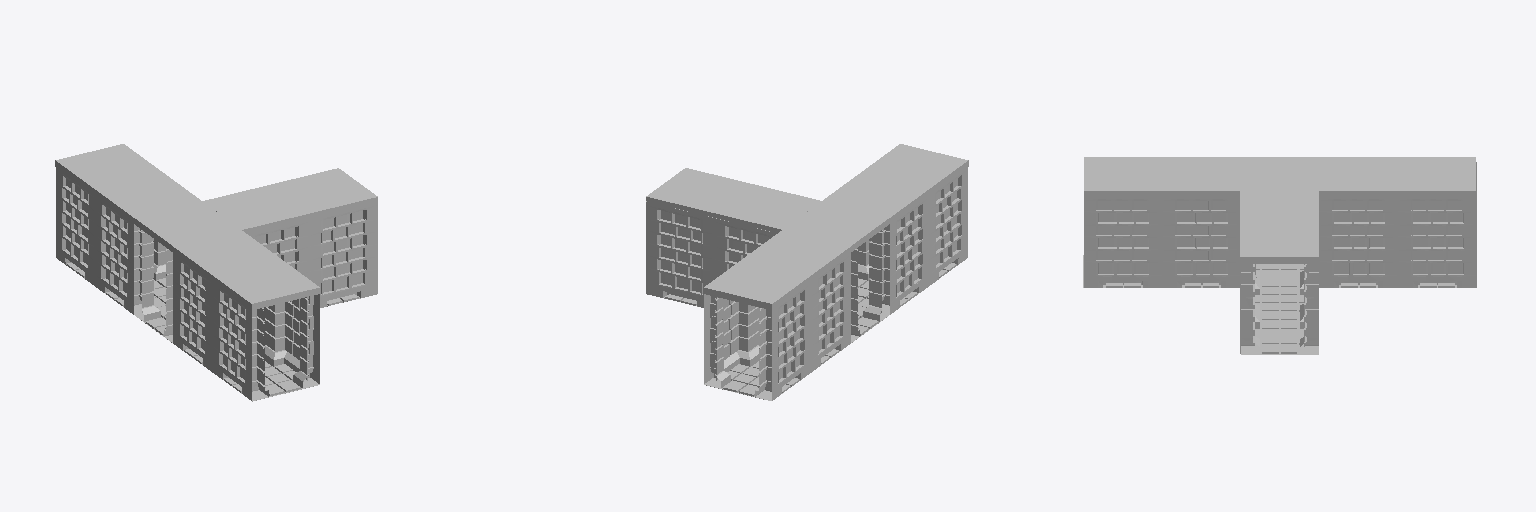
Rendered from level(T).obj.
The picture shows the model from 3 angles: view 1: azimuth 30°, elevation 25°; view 2: azimuth 150°, elevation 25°; view 3: azimuth 270°, elevation 25°; orthographic projection.
Visible parts, largest first — view 1: Sol.017_Plane.095, Sol.014_Plane.092, Sol.020_Plane.098, Sol.016_Plane.094, Sol.018_Plane.096, Sol.015_Plane.093, Plafond.002_Cube.155, Colonne2.R.005_Cube.156, Cube.052_Cube.153; view 2: Sol.018_Plane.096, Sol.014_Plane.092, Sol.016_Plane.094, Sol.020_Plane.098, Sol.017_Plane.095, Sol.015_Plane.093, Plafond.002_Cube.155, Cube.052_Cube.153, Colonne2.R.005_Cube.156; view 3: Sol.020_Plane.098, Sol.018_Plane.096, Sol.017_Plane.095, Sol.016_Plane.094, Sol.014_Plane.092, Sol.015_Plane.093, Plafond.002_Cube.155, Sol.037_Plane.118.
Boxes of the visible parts, <box> form: Sol.017_Plane.095: <box>212,259,319,401</box>; Sol.014_Plane.092: <box>271,168,377,307</box>; Sol.020_Plane.098: <box>95,173,200,314</box>; Sol.016_Plane.094: <box>173,230,280,372</box>; Sol.018_Plane.096: <box>55,144,162,285</box>; Sol.015_Plane.093: <box>203,185,309,279</box>; Plafond.002_Cube.155: <box>134,201,240,251</box>; Colonne2.R.005_Cube.156: <box>135,230,160,321</box>; Cube.052_Cube.153: <box>164,248,172,342</box>; Sol.018_Plane.096: <box>704,259,811,400</box>; Sol.014_Plane.092: <box>646,168,753,307</box>; Sol.016_Plane.094: <box>823,173,928,314</box>; Sol.020_Plane.098: <box>743,230,850,372</box>; Sol.017_Plane.095: <box>861,144,968,285</box>; Sol.015_Plane.093: <box>714,184,820,279</box>; Plafond.002_Cube.155: <box>783,201,889,251</box>; Cube.052_Cube.153: <box>863,230,888,321</box>; Colonne2.R.005_Cube.156: <box>851,248,859,342</box>; Sol.020_Plane.098: <box>1319,157,1397,287</box>; Sol.018_Plane.096: <box>1398,157,1476,287</box>; Sol.017_Plane.095: <box>1083,157,1161,287</box>; Sol.016_Plane.094: <box>1162,157,1239,287</box>; Sol.014_Plane.092: <box>1240,224,1318,354</box>; Sol.015_Plane.093: <box>1240,191,1318,320</box>; Plafond.002_Cube.155: <box>1240,157,1318,190</box>; Sol.037_Plane.118: <box>1256,264,1303,287</box>.
Size of the model in its own units: 17.79 by 8.1 by 29.57.